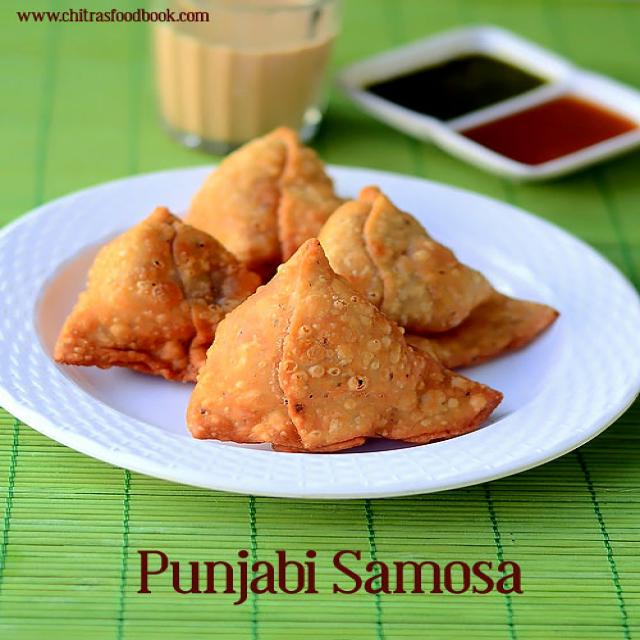samosa: (55, 130, 612, 424)
